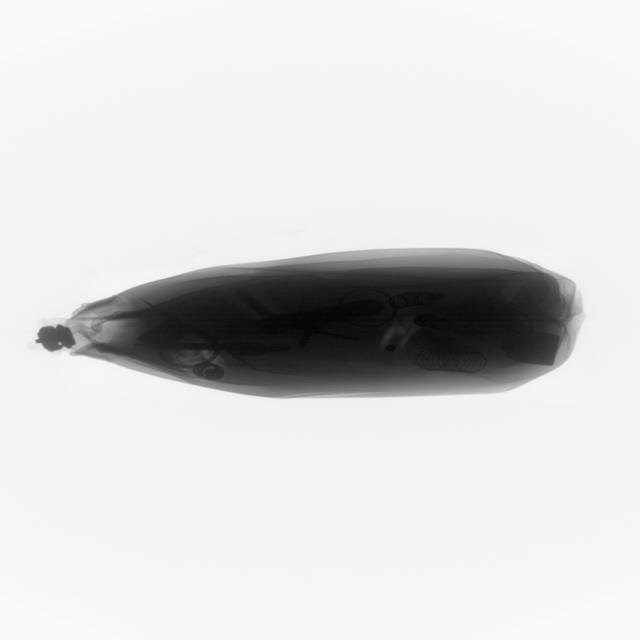knife: (154, 334, 292, 362)
